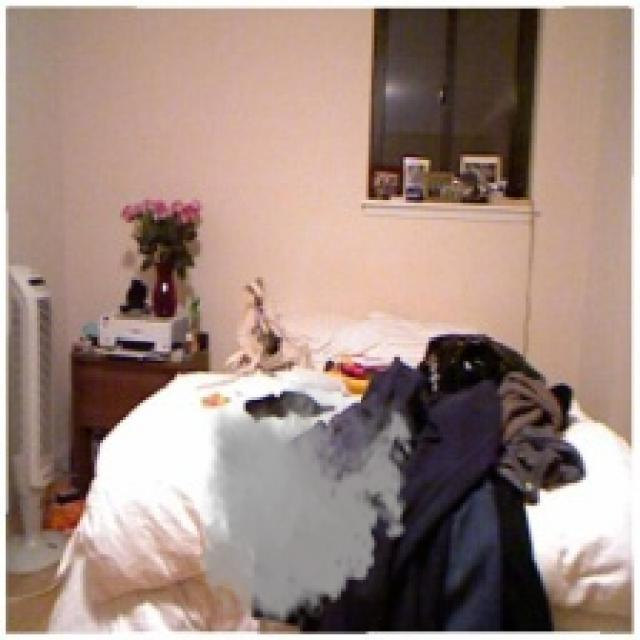smoke: (191, 366, 420, 637)
